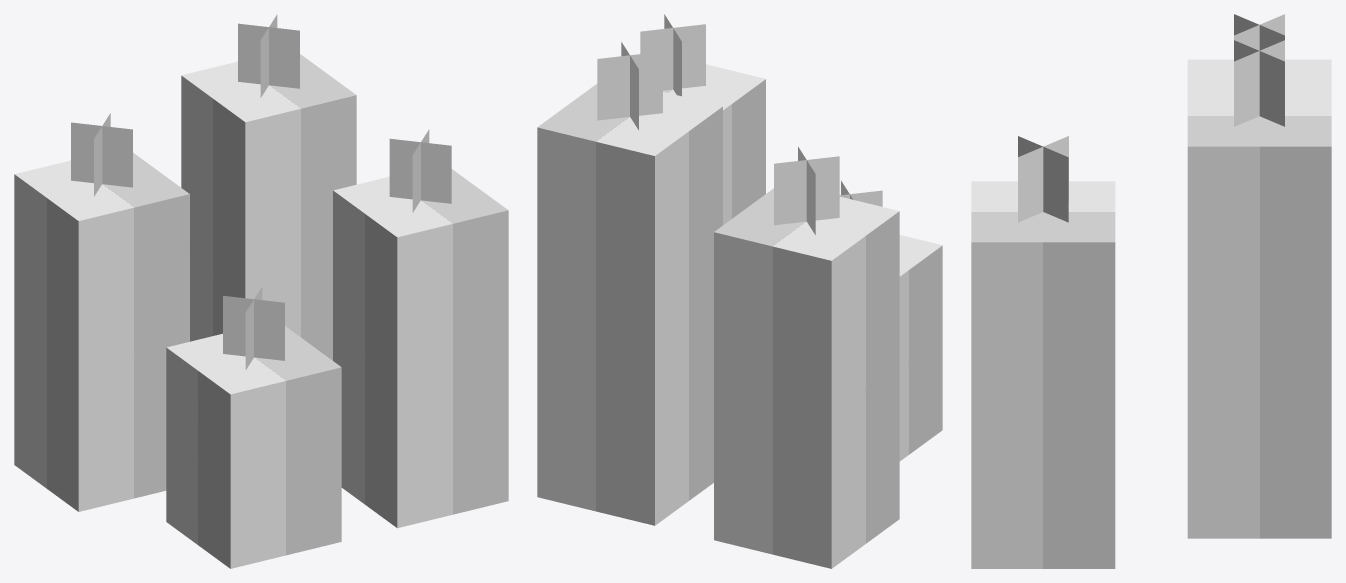
Rendered from block_template_four_candles.gltf.
3 renders of one model, left to right at view 1: azimuth 30°, elevation 25°; view 2: azimuth 150°, elevation 25°; view 3: azimuth 270°, elevation 25°, orthographic. The views are drawn at different scales.
Visible parts, largest first — view 1: cube (×8); view 2: cube (×10); view 3: cube (×9).
Boxes of the visible parts, x1=… form: cube (×8): x1=14, y1=23, x2=508, y2=568; cube (×10): x1=537, y1=14, x2=942, y2=568; cube (×9): x1=971, y1=14, x2=1331, y2=568.
Size of the model in its own units: 0.375 by 0.4375 by 0.3125.
Materials: 1 (1 with a texture image).
